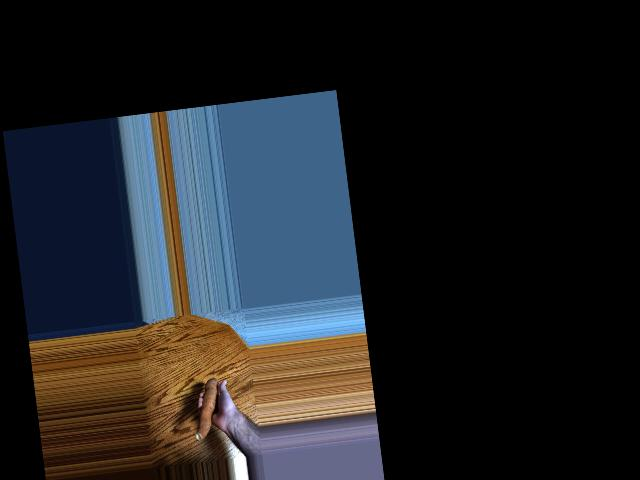sweet_potato: (189, 377, 225, 442)
